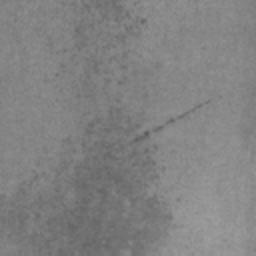Finishing roll printing: (131, 96, 218, 142)
